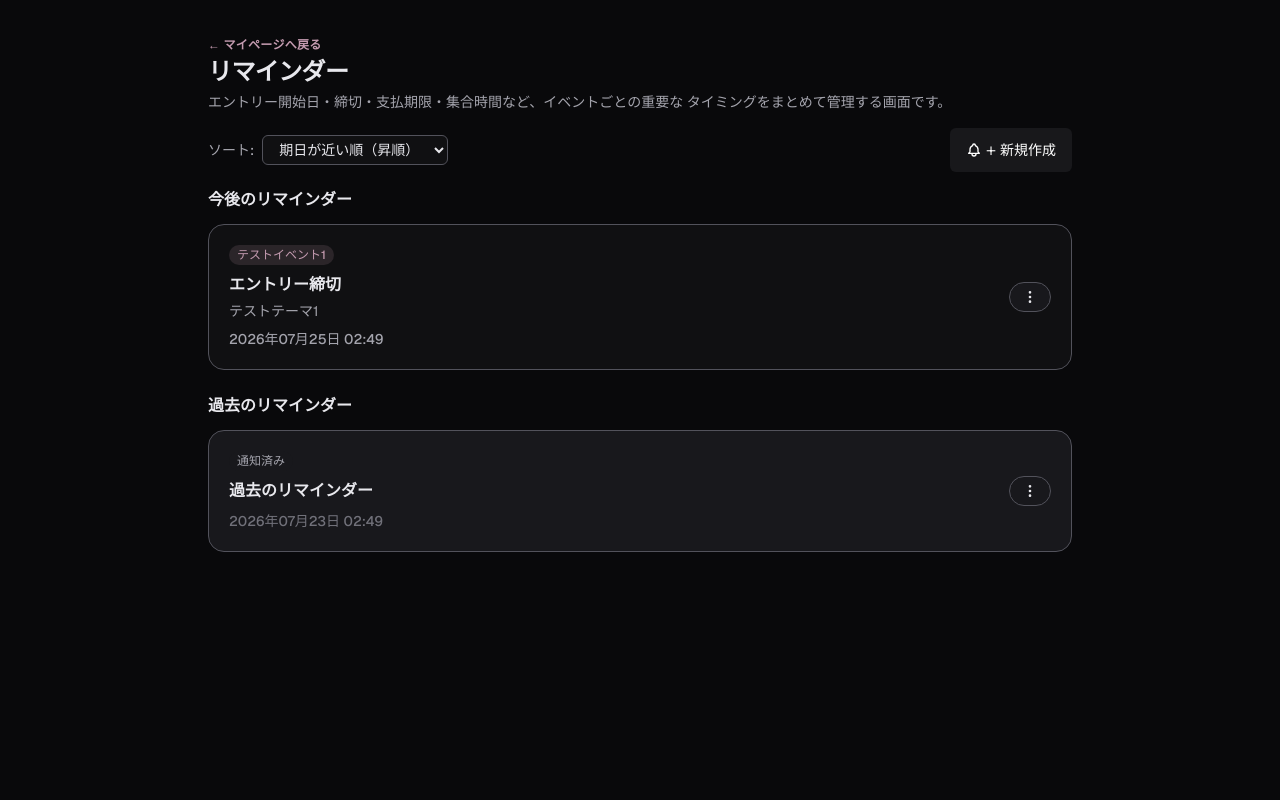
Test case: ReminderPage › 削除ボタンをクリックすると、削除確認モーダルを表示する
This screenshot has width=1280, height=800.
Expected: the text "エントリー締切" is shown, [229,274,341,295]
Click the button titled "メニュー" in the row of "エントリー締切": (1030, 297) [1009,282,1051,312]
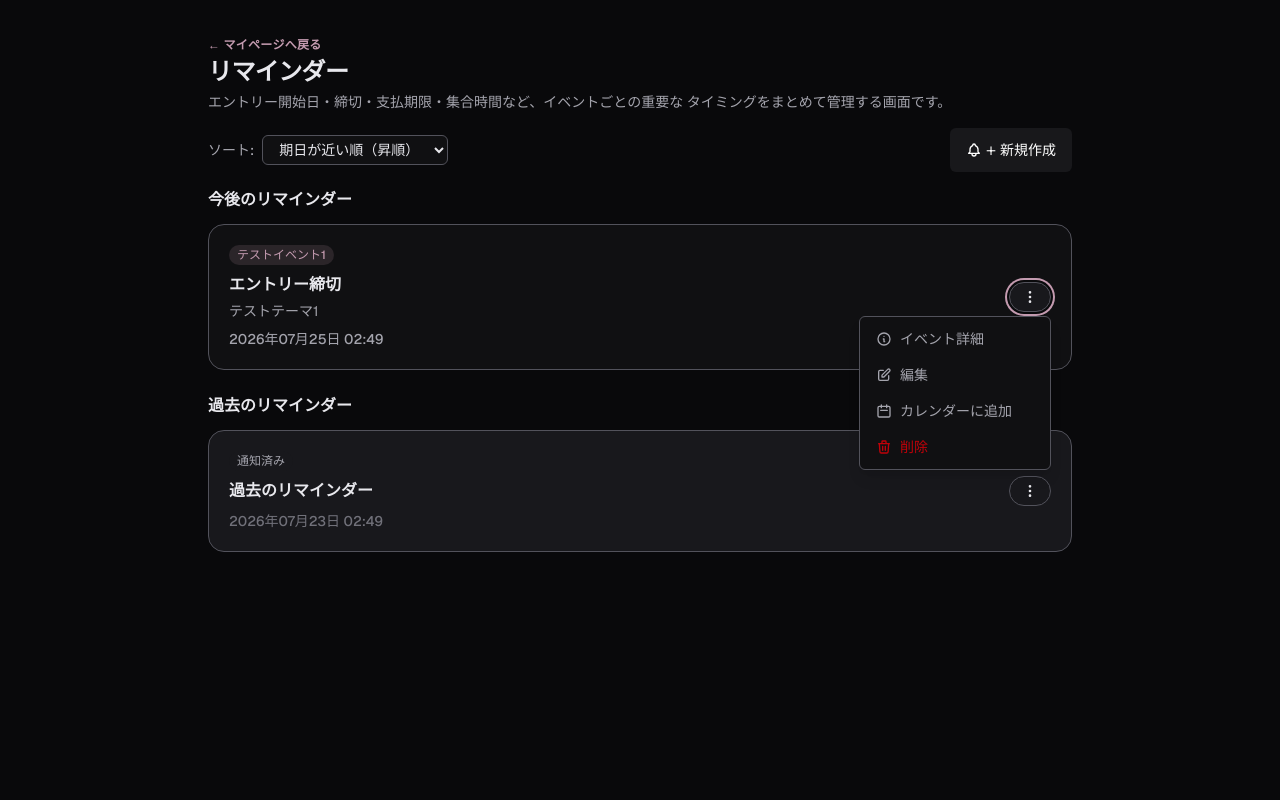
Click the button "削除": (955, 447) [860,429,1050,465]
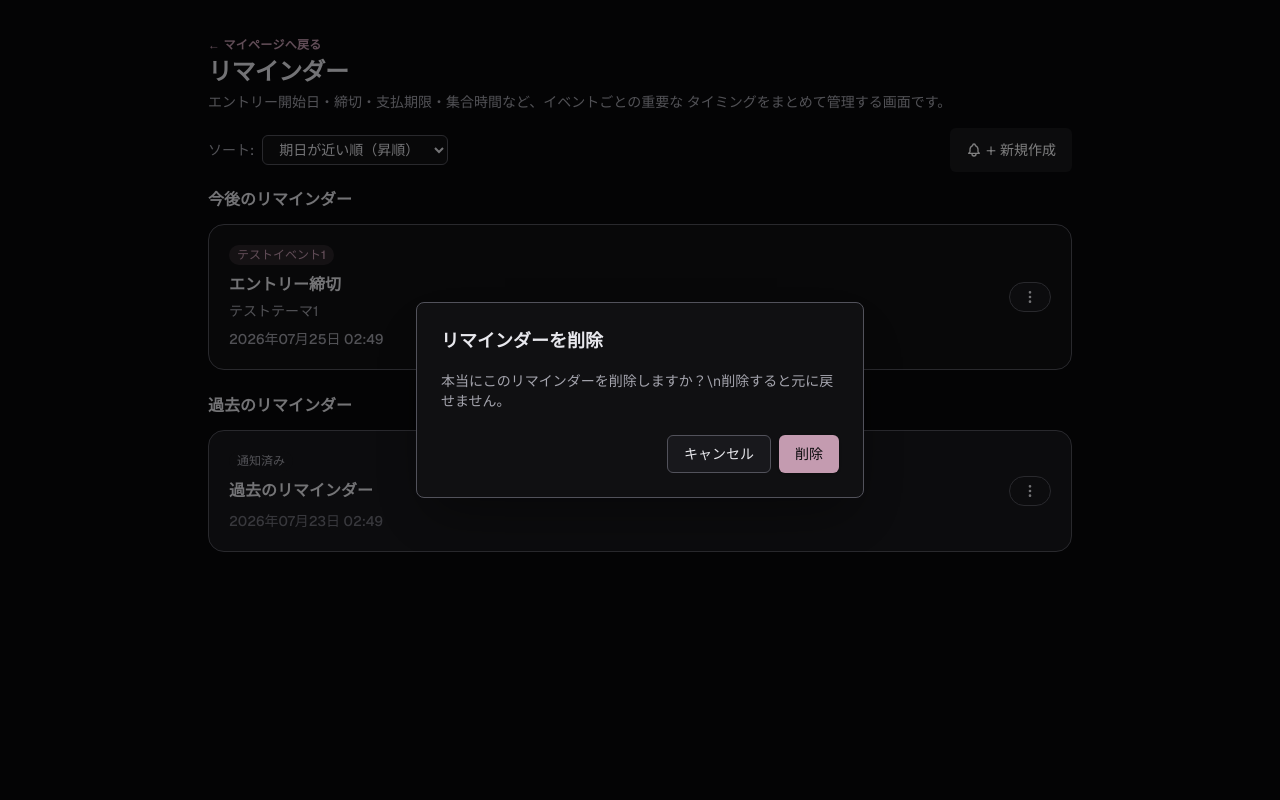
Result: the text "リマインダーを削除" is shown at [441,329,603,352]
